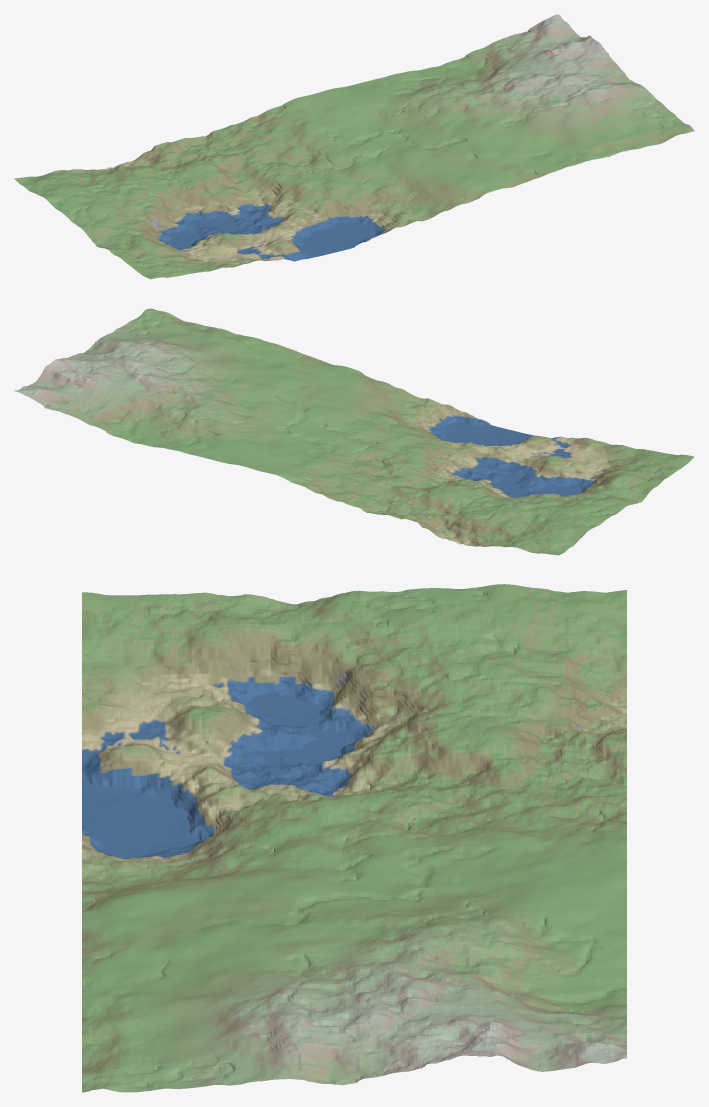
3 renders of one model, top to bottom at view 1: azimuth 30°, elevation 25°; view 2: azimuth 150°, elevation 25°; view 3: azimuth 270°, elevation 25°, orthographic. The views are drawn at different scales.
Parts seen in each view (by area): view 1: terrain; view 2: terrain; view 3: terrain.
Boxes of the visible parts, <box> form: terrain: <box>14,14,694,279</box>; terrain: <box>14,308,694,555</box>; terrain: <box>82,584,626,1092</box>.
Bounding box in the file's own units: 2880 × 266 × 1248.
